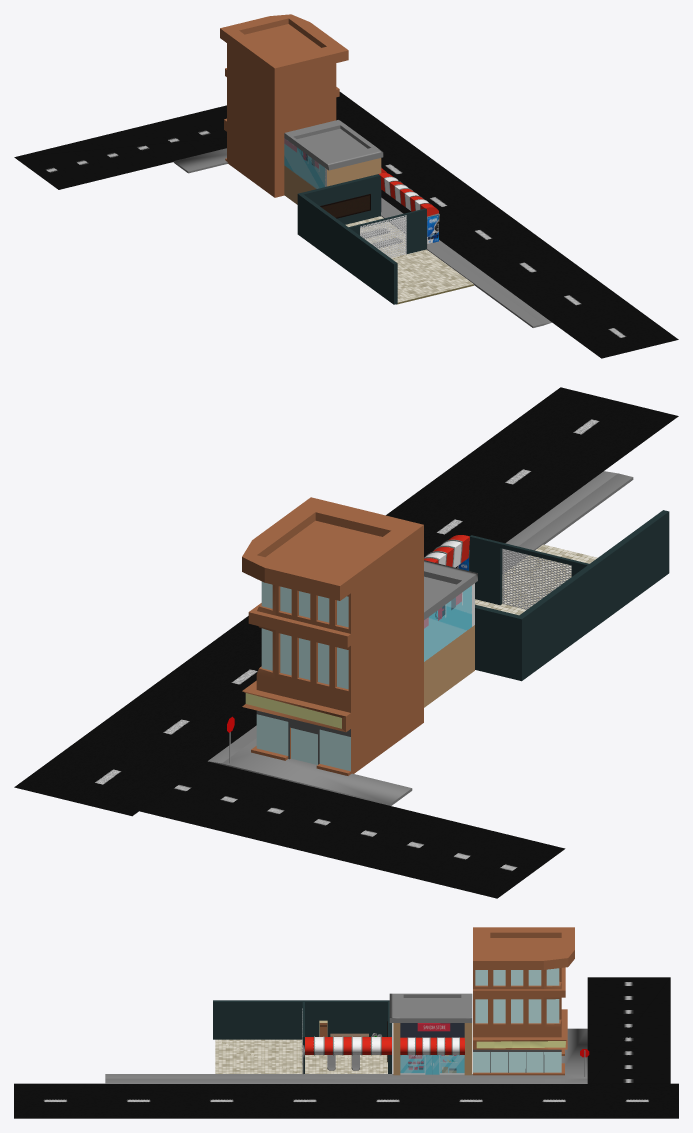
File: Street.fbx
The picture shows the model from 3 angles, top to bottom: view 1: azimuth 30°, elevation 25°; view 2: azimuth 150°, elevation 25°; view 3: azimuth 270°, elevation 25°; orthographic projection. The views are drawn at different scales.
Parts seen in each view (by area): view 1: Highway, Building1, Highway1, WallL, Building, pCube4, Floor1, pPlane4, carpa, Board1, Floor; view 2: Highway, Building1, Highway1, WallL, pCube4, Building, pPlane4, Floor1, carpa; view 3: Highway, Building1, Highway1, WallL, pCube4, Building, Floor1, carpa, Floor, Carpa.
Part boxes in pixels (left/top/right/bottom): Highway: left=336, top=92, right=678, bottom=358; Building1: left=220, top=14, right=348, bottom=197; Highway1: left=14, top=105, right=226, bottom=189; WallL: left=297, top=174, right=426, bottom=304; Building: left=284, top=119, right=383, bottom=211; pCube4: left=173, top=148, right=551, bottom=327; Floor1: left=392, top=250, right=473, bottom=304; pPlane4: left=360, top=215, right=406, bottom=257; carpa: left=379, top=173, right=438, bottom=216; Board1: left=320, top=194, right=370, bottom=218; Floor: left=345, top=216, right=426, bottom=258; Highway: left=14, top=387, right=678, bottom=816; Building1: left=242, top=497, right=423, bottom=775; Highway1: left=139, top=761, right=565, bottom=898; WallL: left=469, top=510, right=669, bottom=681; pCube4: left=208, top=471, right=633, bottom=805; Building: left=424, top=560, right=477, bottom=707; pPlane4: left=502, top=549, right=571, bottom=609; Floor1: left=502, top=544, right=597, bottom=609; carpa: left=424, top=535, right=469, bottom=567; Highway: left=14, top=1083, right=678, bottom=1118; Building1: left=473, top=927, right=574, bottom=1075; Highway1: left=587, top=977, right=670, bottom=1083; WallL: left=213, top=1000, right=392, bottom=1073; pCube4: left=105, top=1028, right=587, bottom=1083; Building: left=389, top=993, right=472, bottom=1075; Floor1: left=215, top=1039, right=301, bottom=1073; carpa: left=305, top=1036, right=391, bottom=1055; Floor: left=301, top=1040, right=387, bottom=1073; Carpa: left=400, top=1037, right=464, bottom=1055.
Bounding box in the file's own units: 4027 × 1613 × 8000.
Materials: 26 (7 with a texture image).
